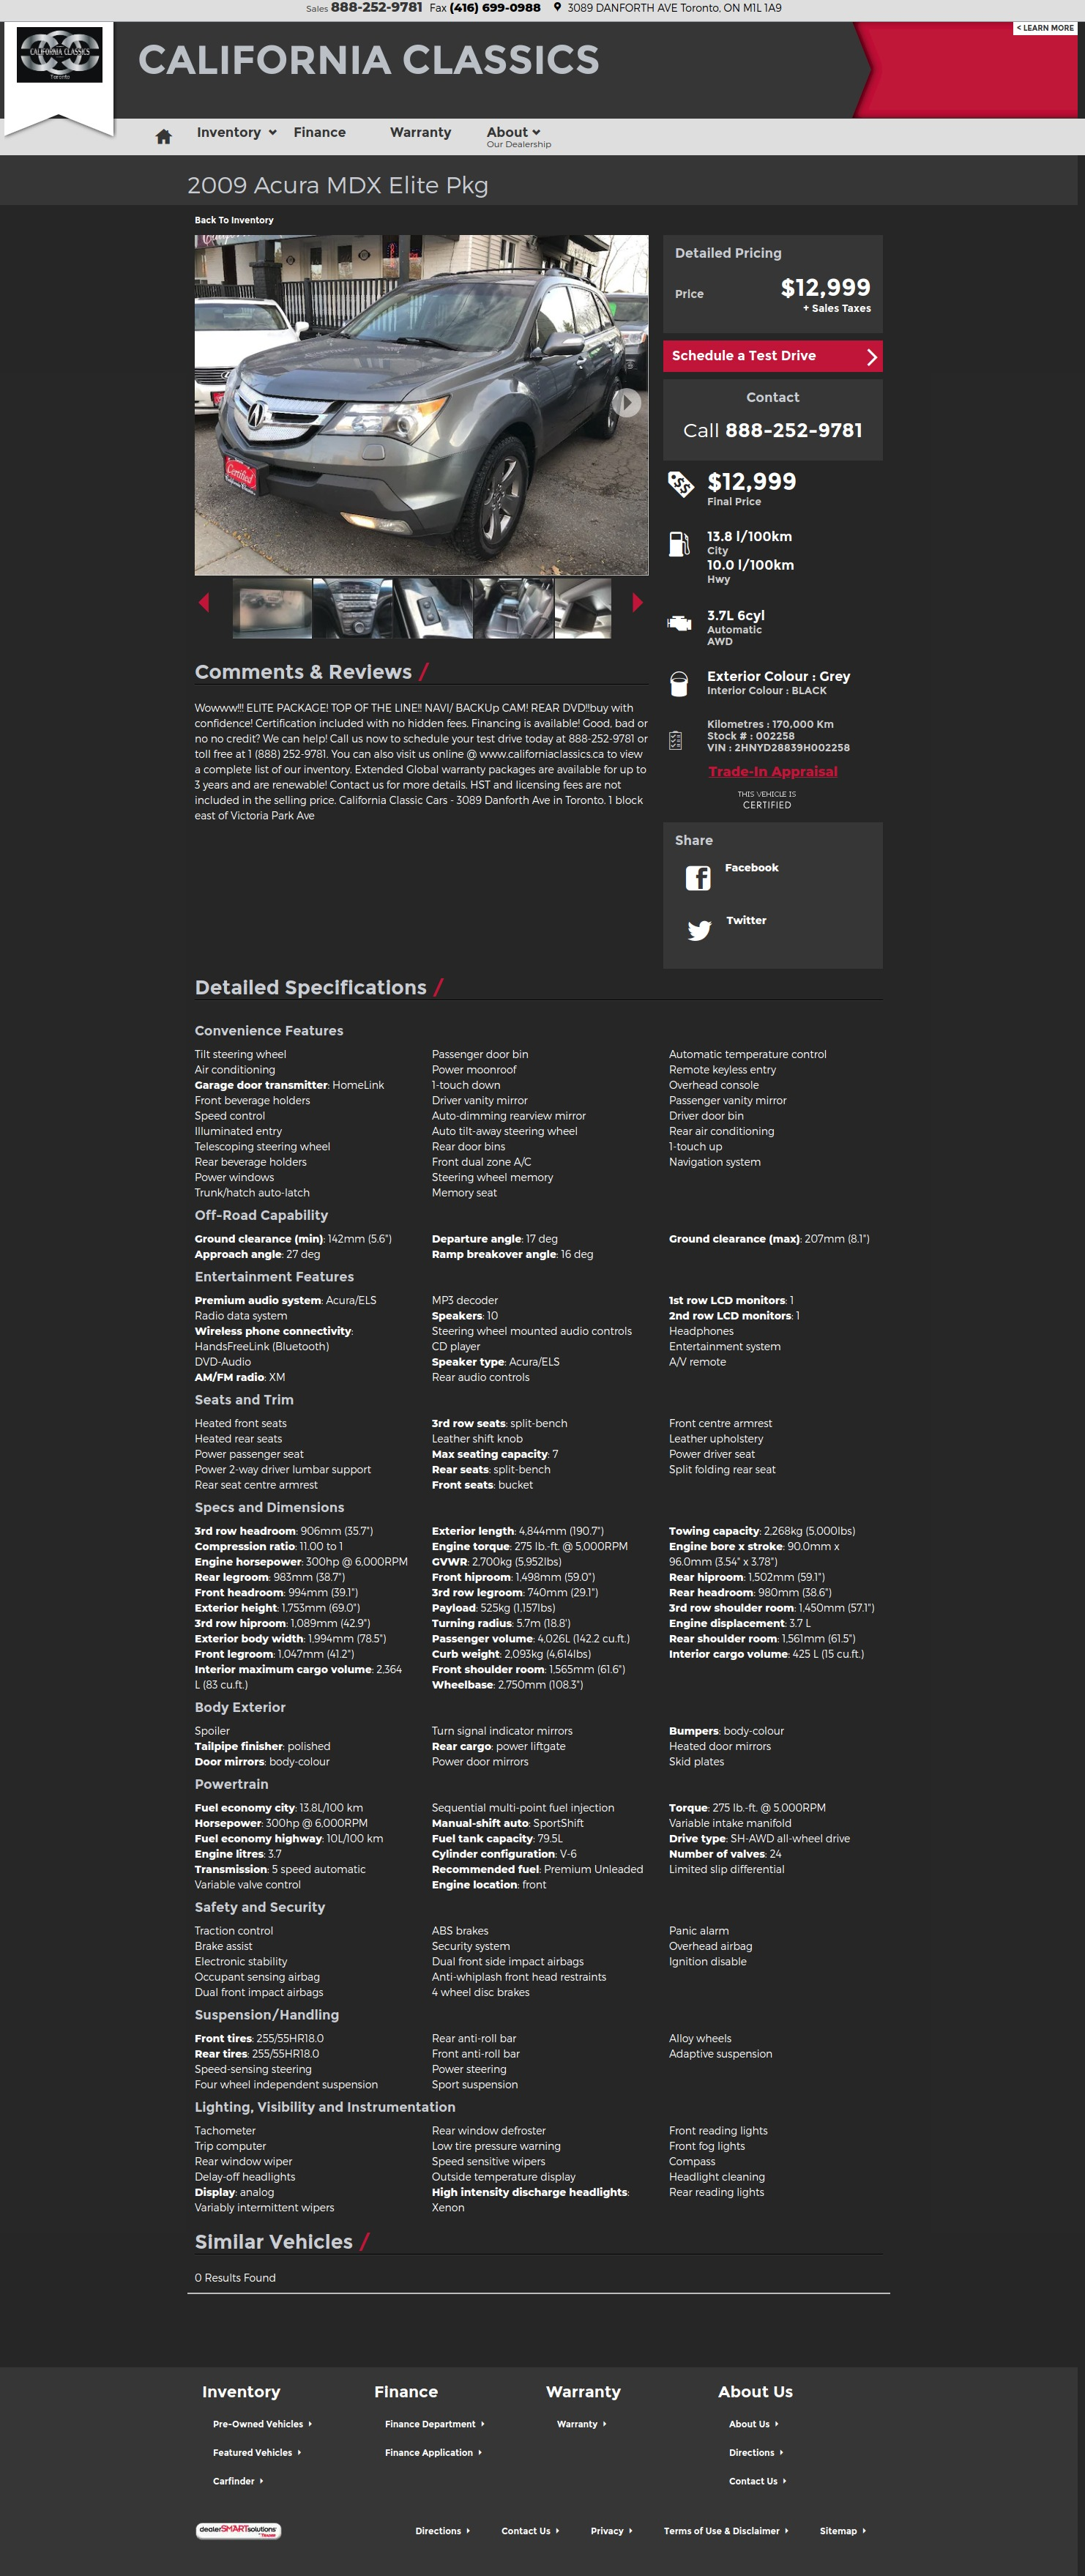car: (630, 591, 645, 614)
